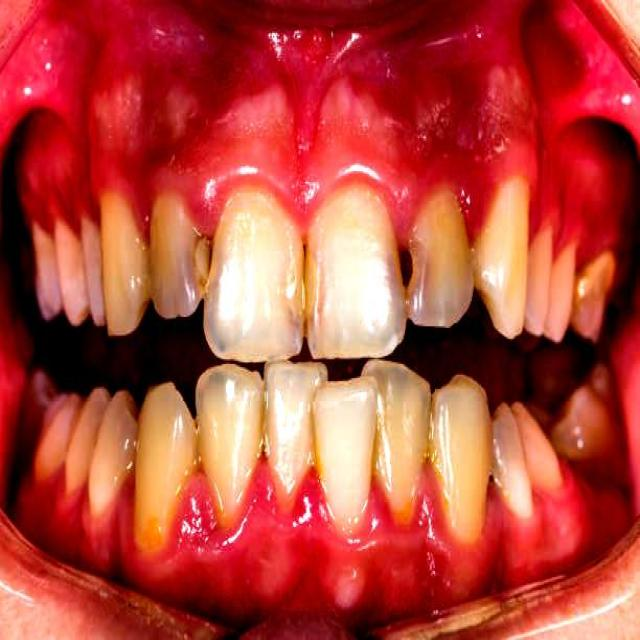caries: (281, 233, 327, 325), (185, 225, 230, 298), (386, 238, 433, 294)
